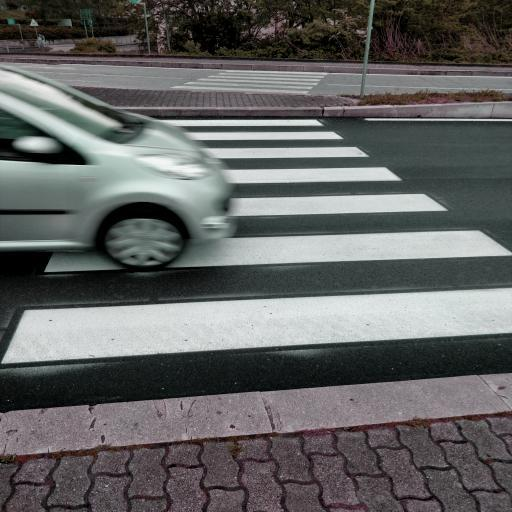crosswalk: (0, 228, 512, 376), (160, 116, 353, 142)
